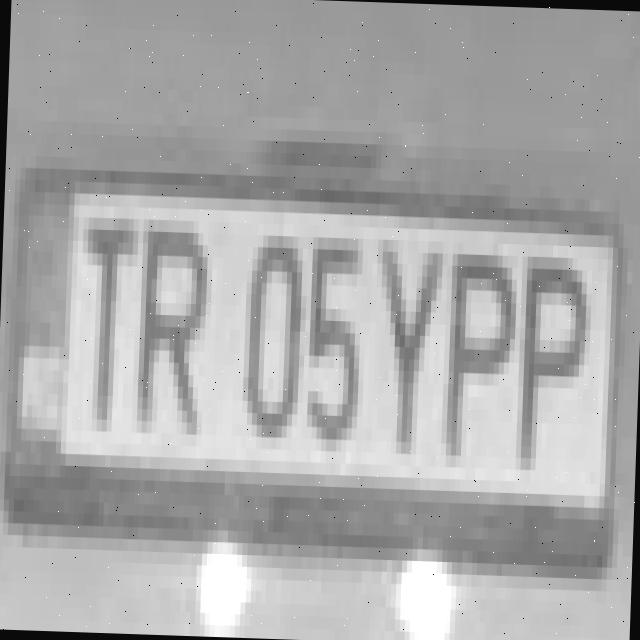Autre: (13, 149, 621, 575)
